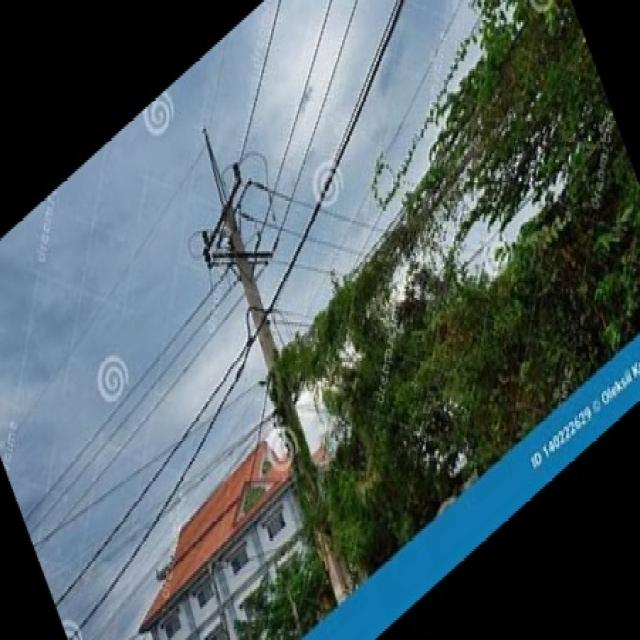critical vegetation: (269, 3, 607, 424)
